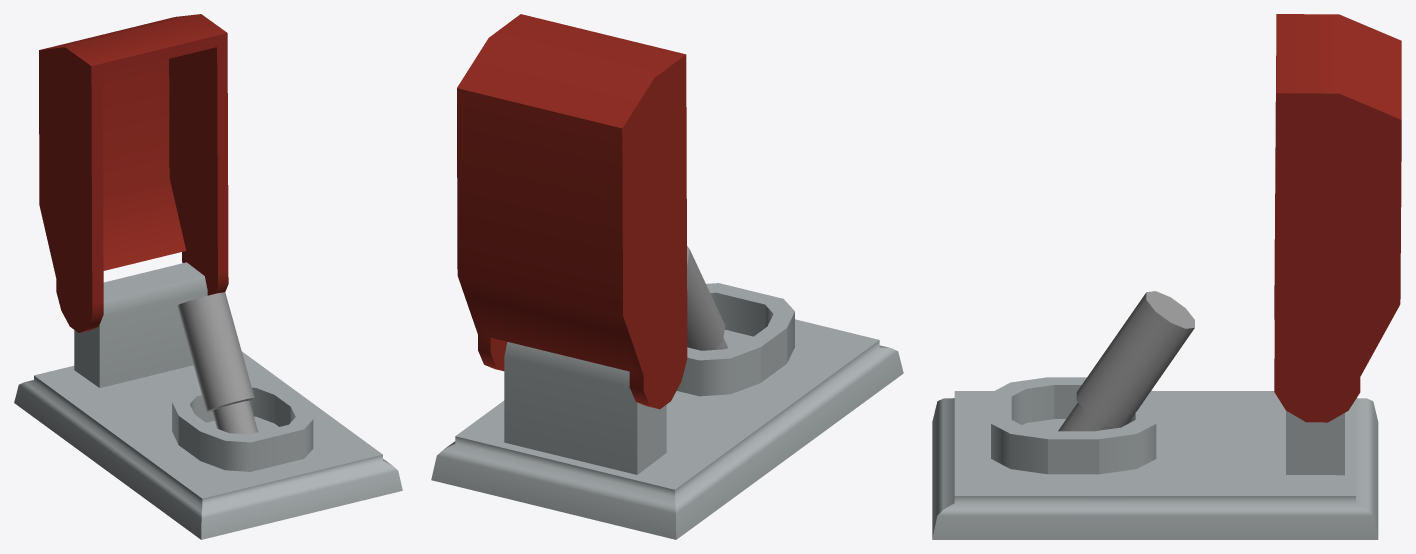
The model's file is switch lid.fbx.
The picture shows the model from 3 angles, left to right: view 1: azimuth 30°, elevation 25°; view 2: azimuth 150°, elevation 25°; view 3: azimuth 270°, elevation 25°; orthographic projection. The views are drawn at different scales.
Visible parts, largest first — view 1: pCube11, pCube12, pCylinder7; view 2: pCube12, pCube11, pCylinder7; view 3: pCube11, pCube12, pCylinder7.
Boxes of the visible parts, bbox=[...] form: pCube11: bbox=[14, 262, 402, 539]; pCube12: bbox=[39, 14, 228, 332]; pCylinder7: bbox=[177, 292, 257, 434]; pCube12: bbox=[457, 14, 687, 409]; pCube11: bbox=[431, 283, 903, 539]; pCylinder7: bbox=[687, 246, 727, 350]; pCube11: bbox=[932, 377, 1378, 539]; pCube12: bbox=[1274, 14, 1401, 422]; pCylinder7: bbox=[1058, 291, 1194, 431].
Bounding box in the file's own units: 3.59 × 6.12 × 6.08.
